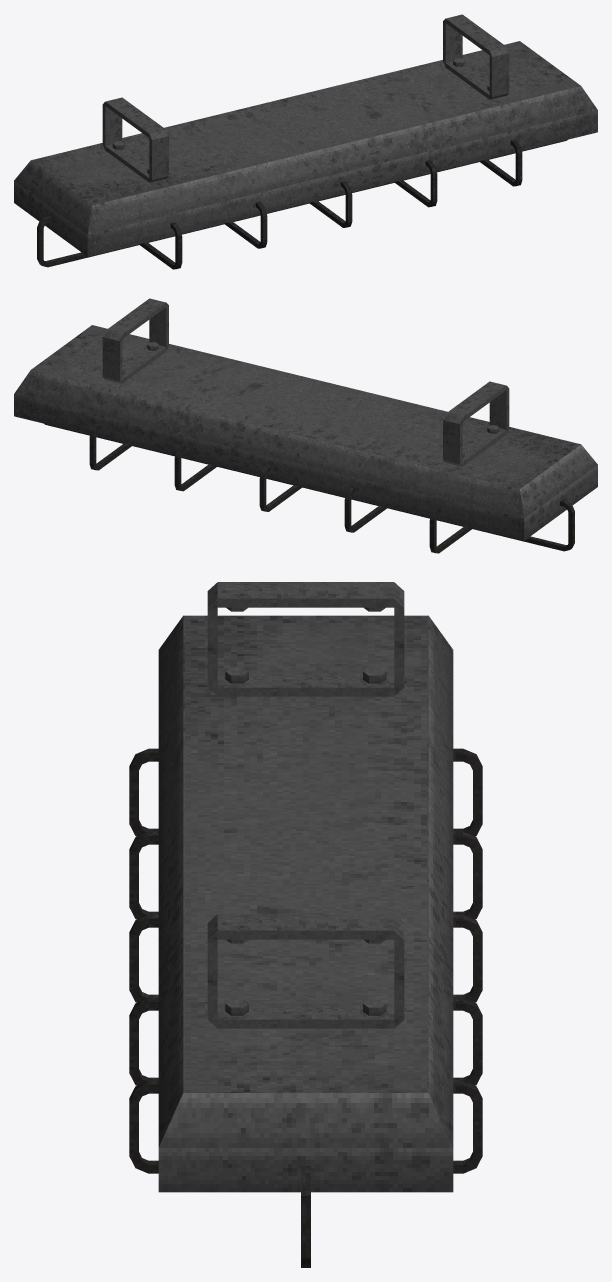
File: ceiling_lamp_4_1_a_on.glb
3 views of the same model, one above another, from view 1: azimuth 30°, elevation 25°; view 2: azimuth 150°, elevation 25°; view 3: azimuth 270°, elevation 25° (orthographic). The views are drawn at different scales.
Visible parts, largest first — view 1: ceiling_lamp_4_1_a_on, ceiling_lamp_4_1_a_on_protector; view 2: ceiling_lamp_4_1_a_on, ceiling_lamp_4_1_a_on_protector; view 3: ceiling_lamp_4_1_a_on, ceiling_lamp_4_1_a_on_protector.
Part boxes in pixels (left/top/right/bottom): ceiling_lamp_4_1_a_on: left=14, top=14, right=597, bottom=256; ceiling_lamp_4_1_a_on_protector: left=37, top=139, right=567, bottom=269; ceiling_lamp_4_1_a_on: left=14, top=298, right=597, bottom=540; ceiling_lamp_4_1_a_on_protector: left=44, top=423, right=574, bottom=553; ceiling_lamp_4_1_a_on: left=158, top=582, right=453, bottom=1192; ceiling_lamp_4_1_a_on_protector: left=129, top=748, right=482, bottom=1267.
Size of the model in its own units: 1.26 by 0.29 by 0.36.
2 materials, 2 textured.
